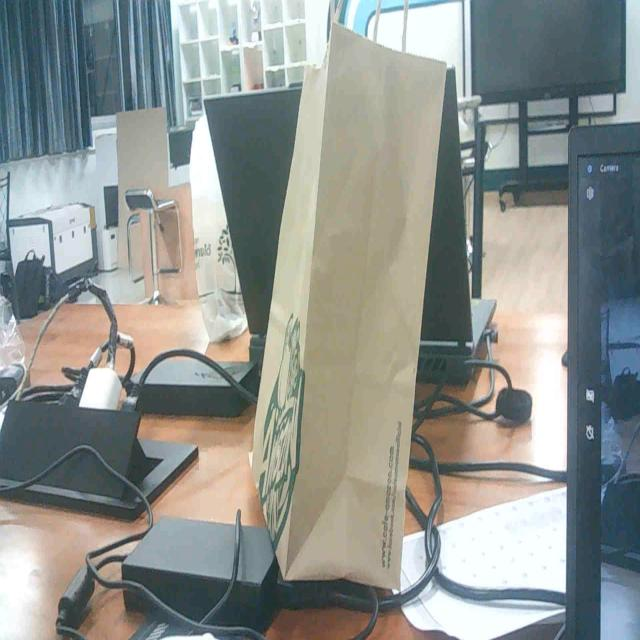bag: (238, 0, 455, 599)
